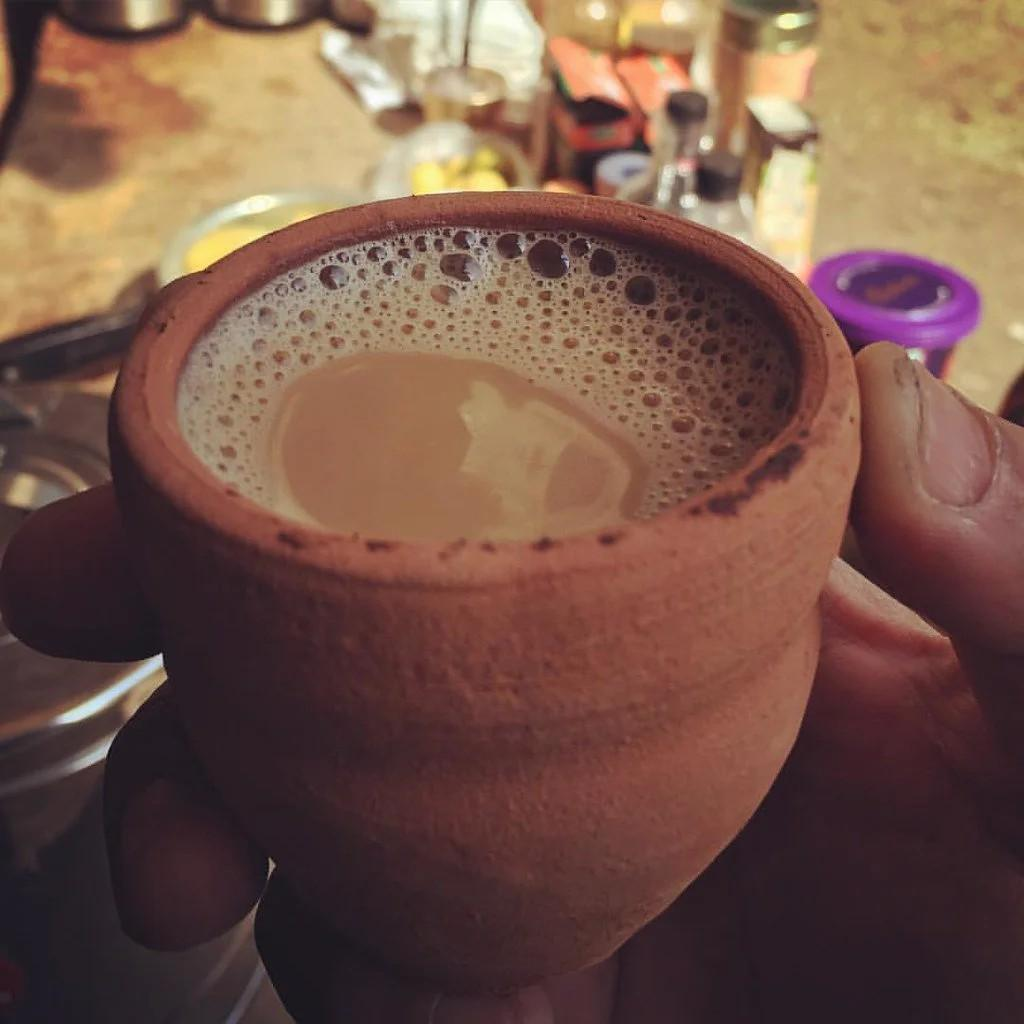Chai: (181, 227, 806, 543)
